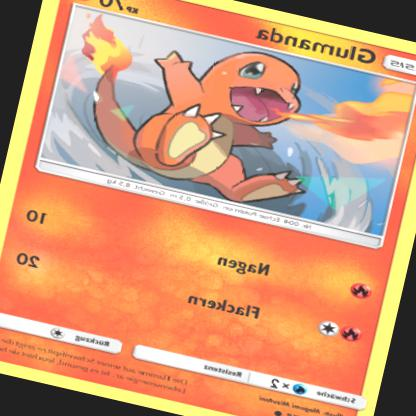Charmander: (77, 17, 333, 215)
